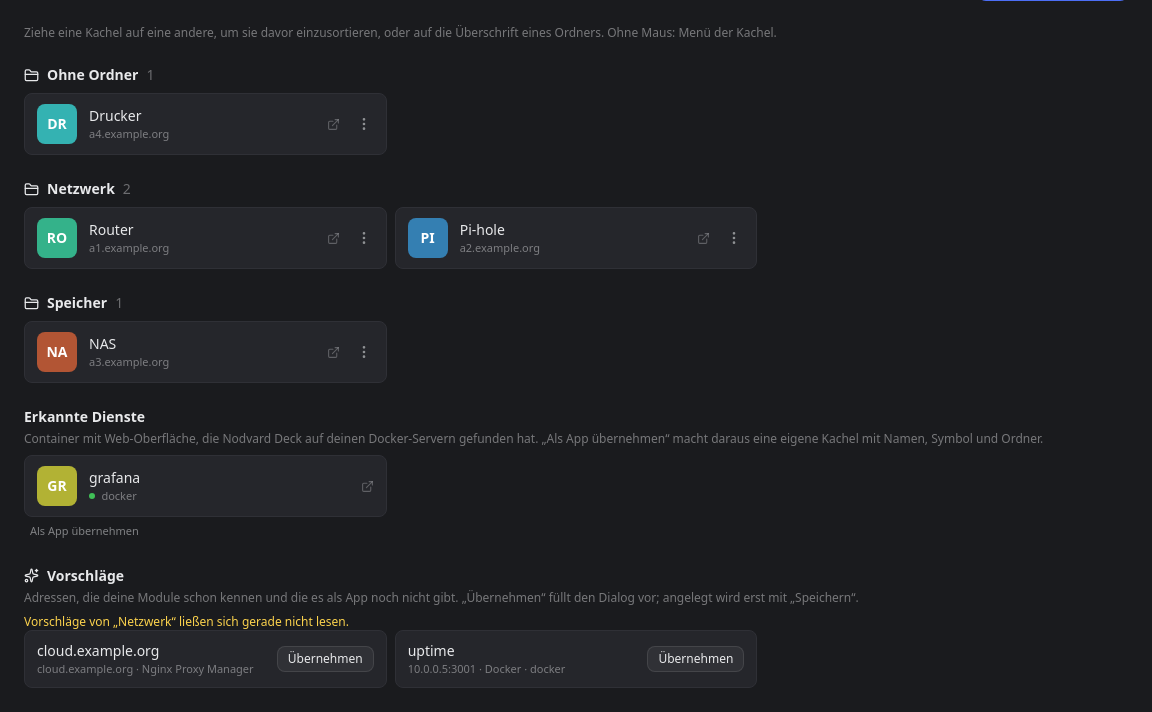
Test case: Seite „Apps“ › zeigt Vorschläge mit Quelle; „Übernehmen“ füllt den Dialog vor
(page scrolled)
Check: the text "cloud.example.org" is shown, box [37,640,159,660]
Check: the text "cloud.example.org · Nginx Proxy Manager" is shown, box [37,660,265,677]
Click the button with aria-label "cloud.example.org übernehmen" at (325,659), box [277,646,374,672]
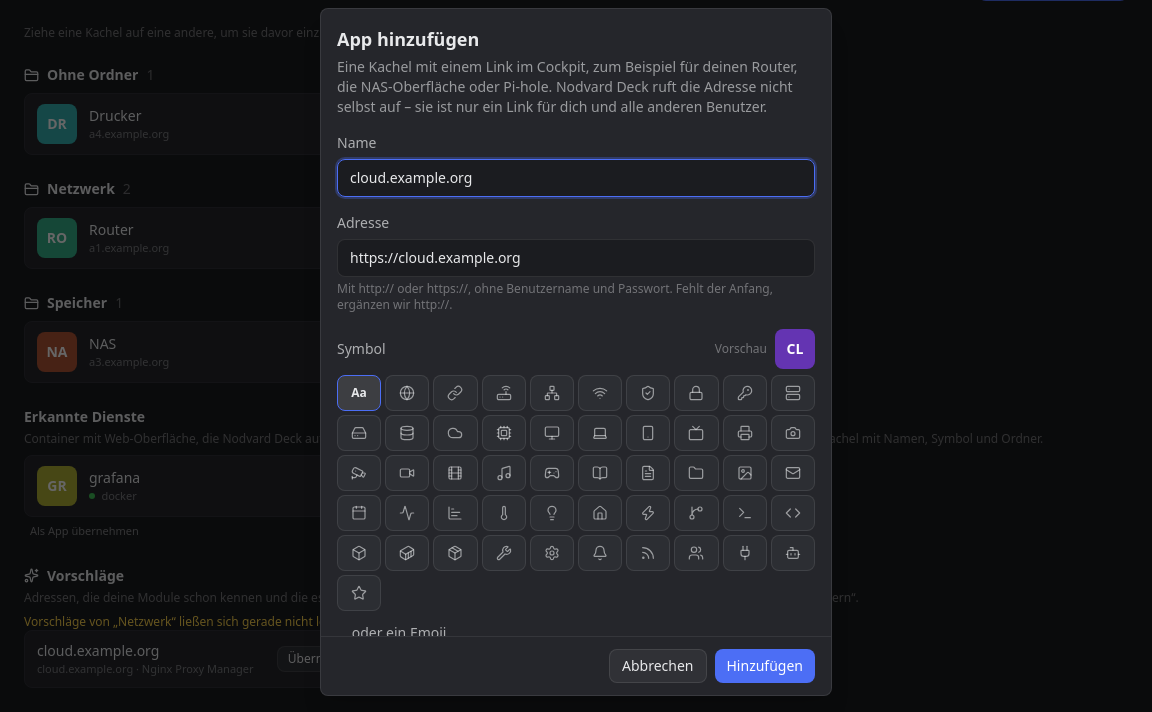
Check: the field showing "https://cloud.example.org" is shown, box [337,239,815,277]
Check: the field showing "cloud.example.org" is shown, box [337,159,815,197]
